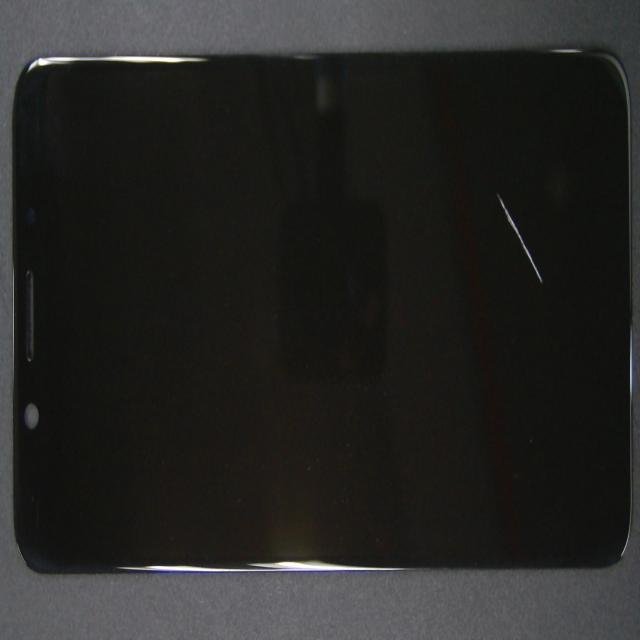scratch: (490, 191, 546, 286)
